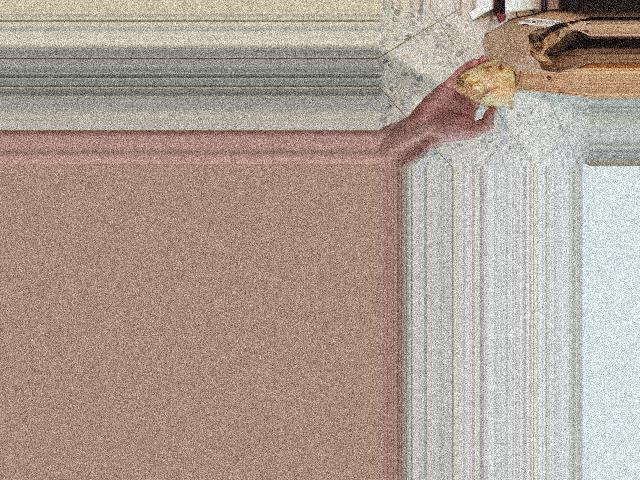onion: (450, 58, 519, 109)
